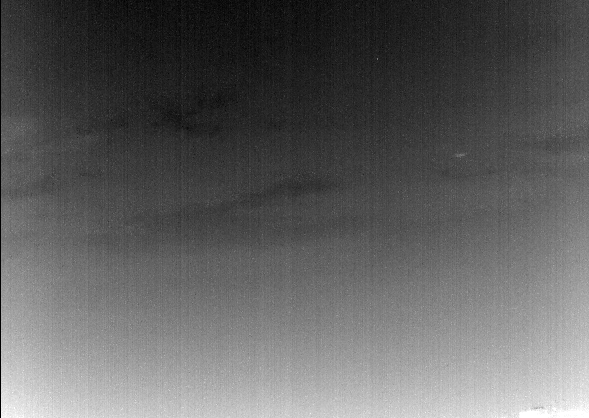dim target: (455, 152, 468, 158)
